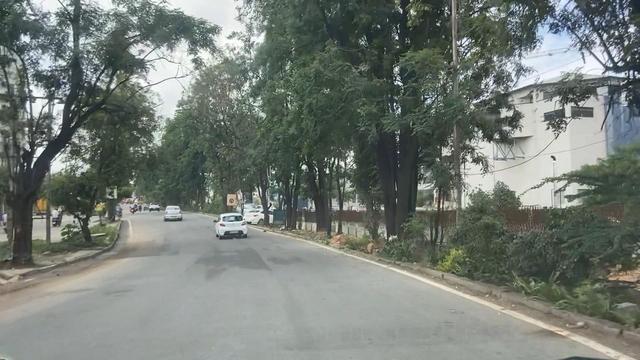LMV: (217, 211, 256, 239), (164, 205, 182, 220)
RoadDamages: (199, 245, 225, 276), (149, 231, 170, 259), (61, 258, 99, 272), (231, 253, 250, 271), (272, 257, 299, 269), (65, 285, 97, 294), (117, 245, 131, 262), (132, 239, 146, 256), (105, 290, 130, 298)
